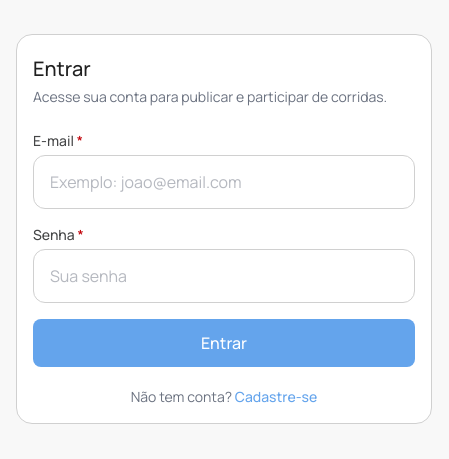
Test case: SignIn › wrong password shows the generic error message
In the field labelled "E-mail *": (224, 182) [33,155,415,209], type "ana@example.com"
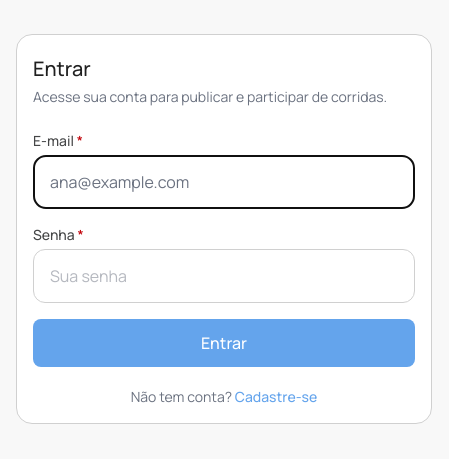
In the password field labelled "Senha *": (224, 276) [33,249,415,303], type "wrongpassword"
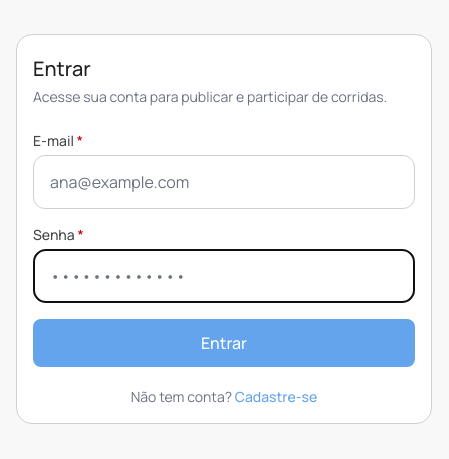
Click the button "Entrar": (224, 343) [33,319,415,367]
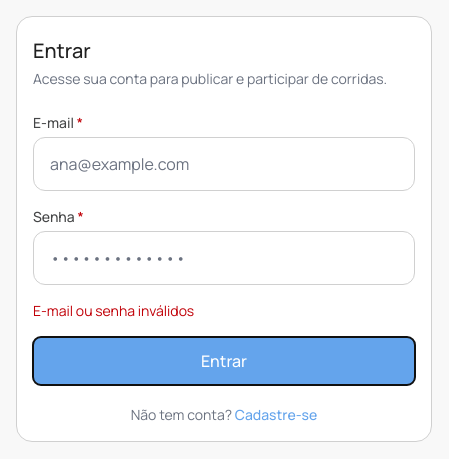
Now the text "E-mail ou senha inválidos" is shown, box [33,301,194,320]
